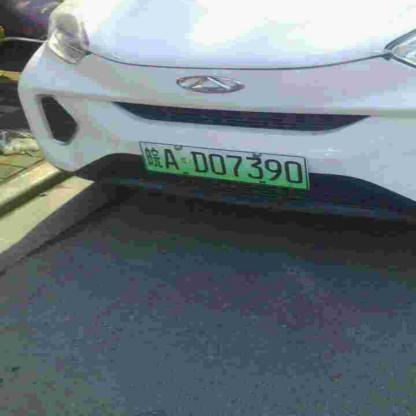lp: (138, 142, 308, 189)
